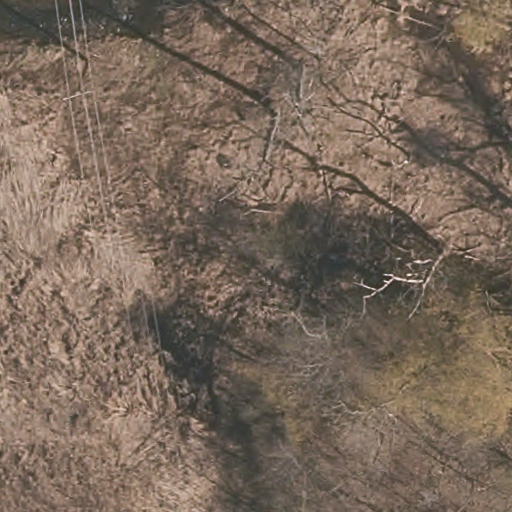DT: (57, 81, 95, 120)
